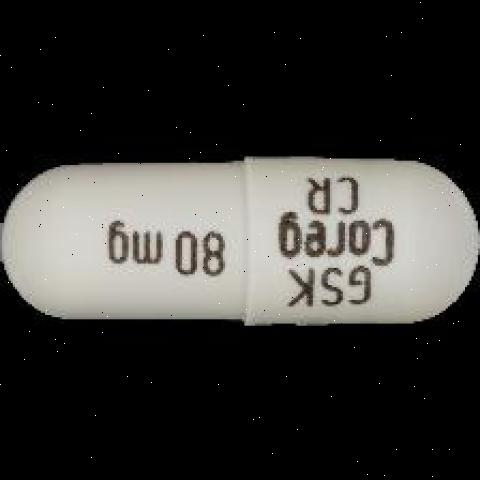Pill: (0, 115, 479, 369)
